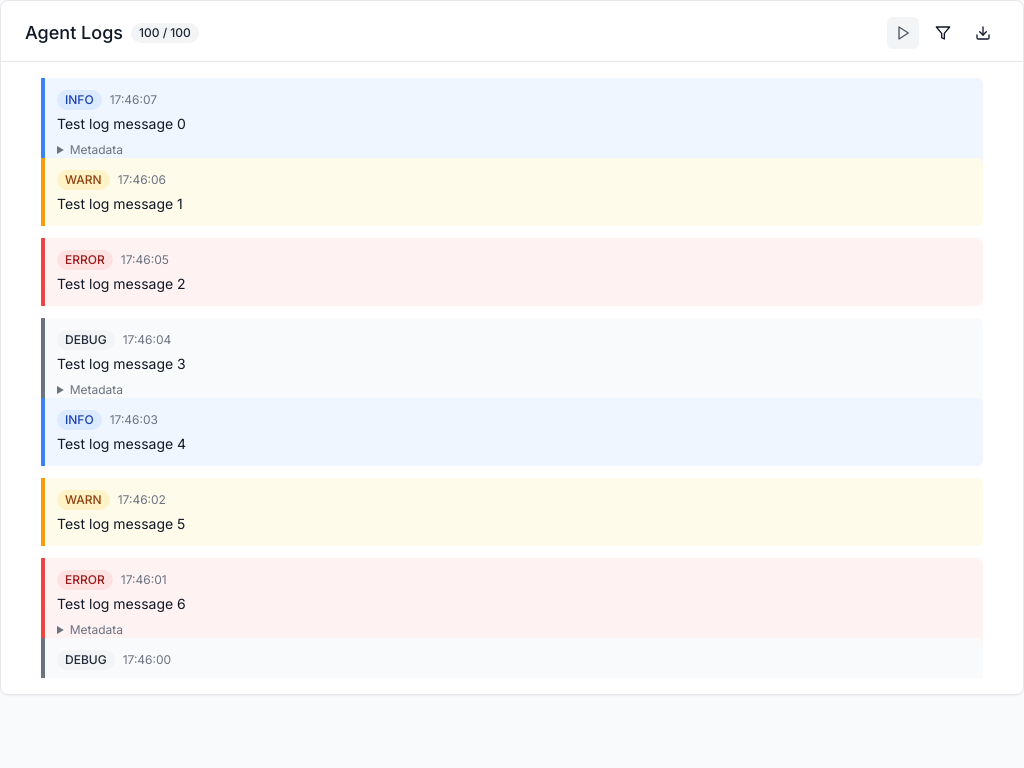
Test: VirtualizedLogViewer - Performance Enhancement › Advanced Search and Filtering › should provide advanced search functionality
// First click the filter toggle to show the search inputs
Click the button named "Toggle filters" at point(943, 33), box [927,17,959,49]
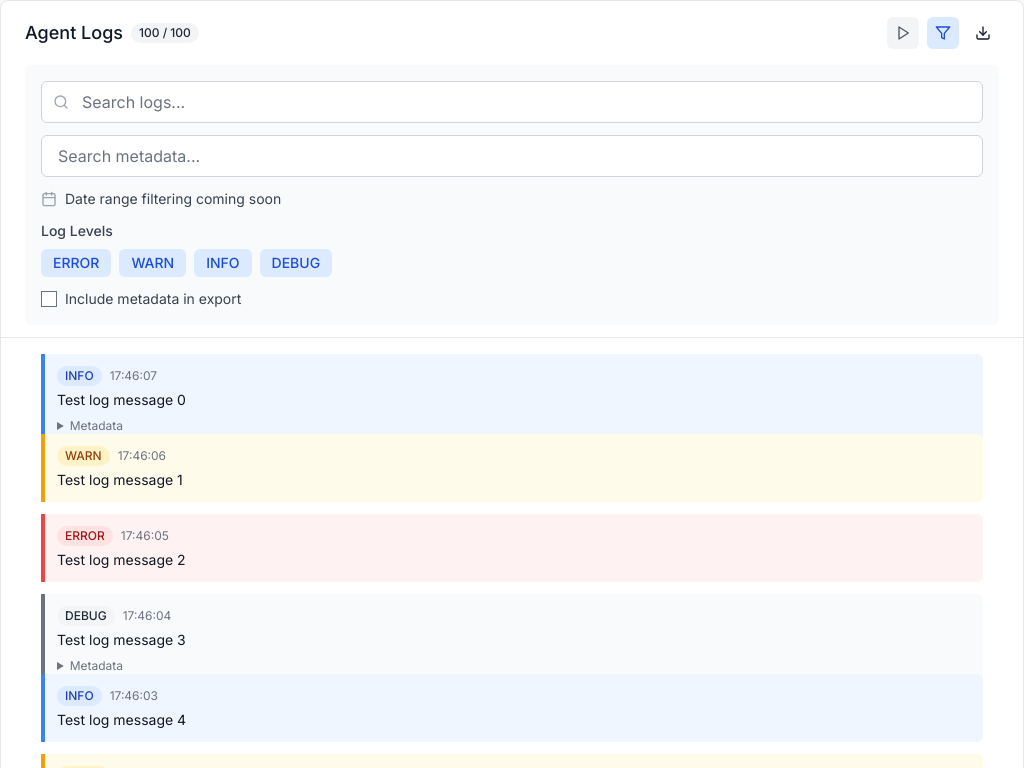
Expected: the field with test id "log-search-input" is shown, [41,81,983,123]
Expected: the element with test id "log-level-filters" is shown, [41,249,332,277]
Expected: the element with test id "date-range-filter" is shown, [41,190,281,207]
